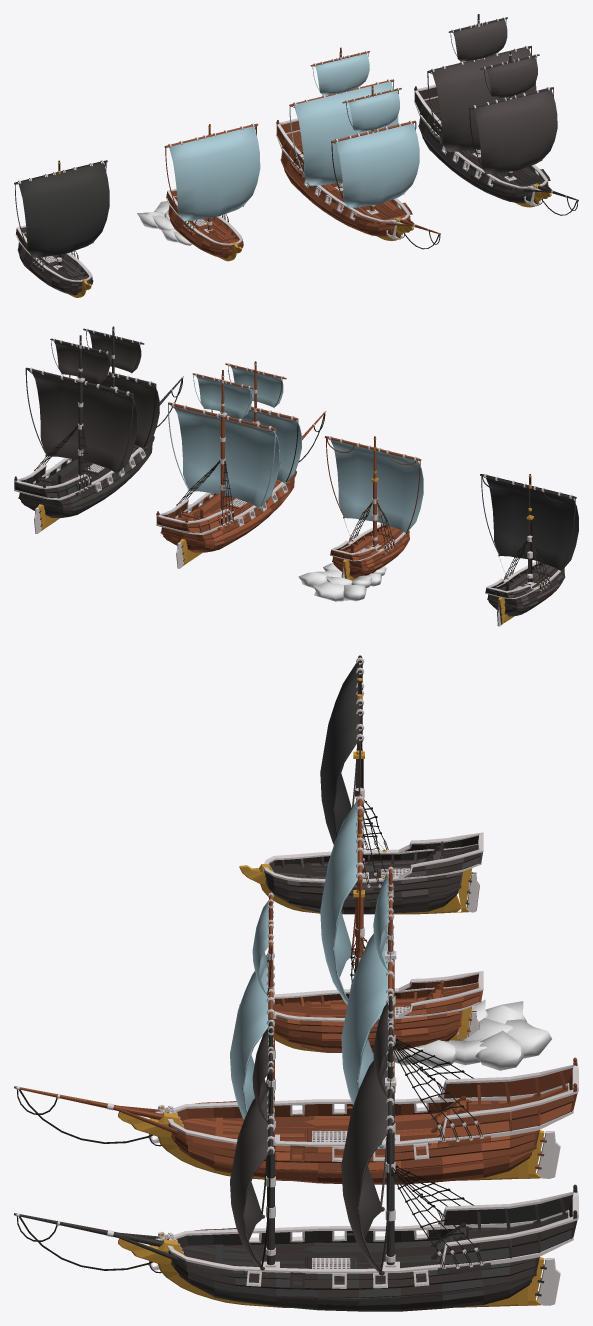
The model's file is ships_texture.fbx.
The picture shows the model from 3 angles, top to bottom: view 1: azimuth 30°, elevation 25°; view 2: azimuth 150°, elevation 25°; view 3: azimuth 270°, elevation 25°; orthographic projection. The views are drawn at different scales.
Parts seen in each view (by area): view 1: SM_Veh_Veh_Boat_Large_01_Hull_Sails.001, SM_Veh_Veh_Boat_Large_01_Hull_Sails.003, SM_Veh_Boat_Medium_01_Hull_Pirate_Sails, SM_Veh_Boat_Medium_01_Hull_Sails, SM_Veh_Veh_Boat_Large_01_Hull_Sails.002, SM_Veh_Veh_Boat_Large_01_Hull_Sails.004, SM_Veh_Veh_Boat_Large_01_Hull, SM_Veh_Veh_Boat_Large_01_Hull.001, SM_Veh_Boat_Medium_01_Hull_Pirate, SM_Veh_Boat_Medium_01_Hull, SeaFoam, SMVeh__Boat_Large_Mast_02.001 (+4 smaller); view 2: SM_Veh_Veh_Boat_Large_01_Hull_Sails.004, SM_Veh_Veh_Boat_Large_01_Hull_Sails.002, SM_Veh_Boat_Medium_01_Hull_Pirate_Sails, SM_Veh_Veh_Boat_Large_01_Hull.001, SM_Veh_Veh_Boat_Large_01_Hull, SM_Veh_Boat_Medium_01_Hull_Sails, SM_Veh_Boat_Medium_01_Hull_Pirate, SM_Veh_Boat_Medium_01_Hull, SM_Veh_Veh_Boat_Large_01_Hull_Sails.003, SM_Veh_Veh_Boat_Large_01_Hull_Sails.001, SeaFoam, SM_Veh_Boat_Large_Mast_01 (+4 smaller); view 3: SM_Veh_Veh_Boat_Large_01_Hull.001, SM_Veh_Veh_Boat_Large_01_Hull, SM_Veh_Boat_Medium_01_Hull_Pirate, SM_Veh_Boat_Medium_01_Hull, SM_Veh_Veh_Boat_Large_01_Hull_Sails.004, SeaFoam, SM_Veh_Veh_Boat_Large_01_Hull_Sails.002, SM_Veh_Boat_Medium_01_Hull_Pirate_Sails, SM_Veh_Veh_Boat_Large_01_Hull_Sails.003, SM_Veh_Boat_Medium_01_Hull_Sails, SM_Veh_Veh_Boat_Large_01_Hull_Sails.001, SM_Veh_Boat_Large_Mast_01.001 (+4 smaller).
Boxes of the visible parts, x1,y1,x2,y2 form: SM_Veh_Veh_Boat_Large_01_Hull_Sails.001: (331,90,419,207); SM_Veh_Veh_Boat_Large_01_Hull_Sails.003: (469,57,557,174); SM_Veh_Boat_Medium_01_Hull_Pirate_Sails: (14,160,109,265); SM_Veh_Boat_Medium_01_Hull_Sails: (165,126,260,223); SM_Veh_Veh_Boat_Large_01_Hull_Sails.002: (289,53,398,186); SM_Veh_Veh_Boat_Large_01_Hull_Sails.004: (427,19,536,152); SM_Veh_Veh_Boat_Large_01_Hull: (276,118,440,249); SM_Veh_Veh_Boat_Large_01_Hull.001: (414,84,578,215); SM_Veh_Boat_Medium_01_Hull_Pirate: (15,225,93,297); SM_Veh_Boat_Medium_01_Hull: (166,188,243,261); SeaFoam: (137,201,192,245); SMVeh__Boat_Large_Mast_02.001: (469,52,553,177); SM_Veh_Veh_Boat_Large_01_Hull_Sails.004: (25,340,137,474); SM_Veh_Veh_Boat_Large_01_Hull_Sails.002: (168,374,280,509); SM_Veh_Boat_Medium_01_Hull_Pirate_Sails: (480,474,578,584); SM_Veh_Veh_Boat_Large_01_Hull.001: (14,376,183,533); SM_Veh_Veh_Boat_Large_01_Hull: (156,411,326,568); SM_Veh_Boat_Medium_01_Hull_Sails: (326,438,423,548); SM_Veh_Boat_Medium_01_Hull_Pirate: (485,538,565,626); SM_Veh_Boat_Medium_01_Hull: (330,502,409,580); SM_Veh_Veh_Boat_Large_01_Hull_Sails.003: (69,331,159,449); SM_Veh_Veh_Boat_Large_01_Hull_Sails.001: (211,366,301,484); SeaFoam: (298,563,386,601); SM_Veh_Boat_Large_Mast_01: (168,370,276,511); SM_Veh_Veh_Boat_Large_01_Hull.001: (14,1165,578,1311); SM_Veh_Veh_Boat_Large_01_Hull: (14,1038,578,1184); SM_Veh_Boat_Medium_01_Hull_Pirate: (239,791,483,914); SM_Veh_Boat_Medium_01_Hull: (239,935,483,1052); SM_Veh_Veh_Boat_Large_01_Hull_Sails.004: (341,1001,392,1275); SeaFoam: (394,999,551,1070); SM_Veh_Veh_Boat_Large_01_Hull_Sails.002: (341,874,392,1148); SM_Veh_Boat_Medium_01_Hull_Pirate_Sails: (320,655,384,878); SM_Veh_Veh_Boat_Large_01_Hull_Sails.003: (230,1027,271,1270); SM_Veh_Boat_Medium_01_Hull_Sails: (320,801,360,1004); SM_Veh_Veh_Boat_Large_01_Hull_Sails.001: (230,901,271,1119); SM_Veh_Boat_Large_Mast_01.001: (385,992,396,1265).
Size of the model in its own units: 66.94 by 19.93 by 33.04.
